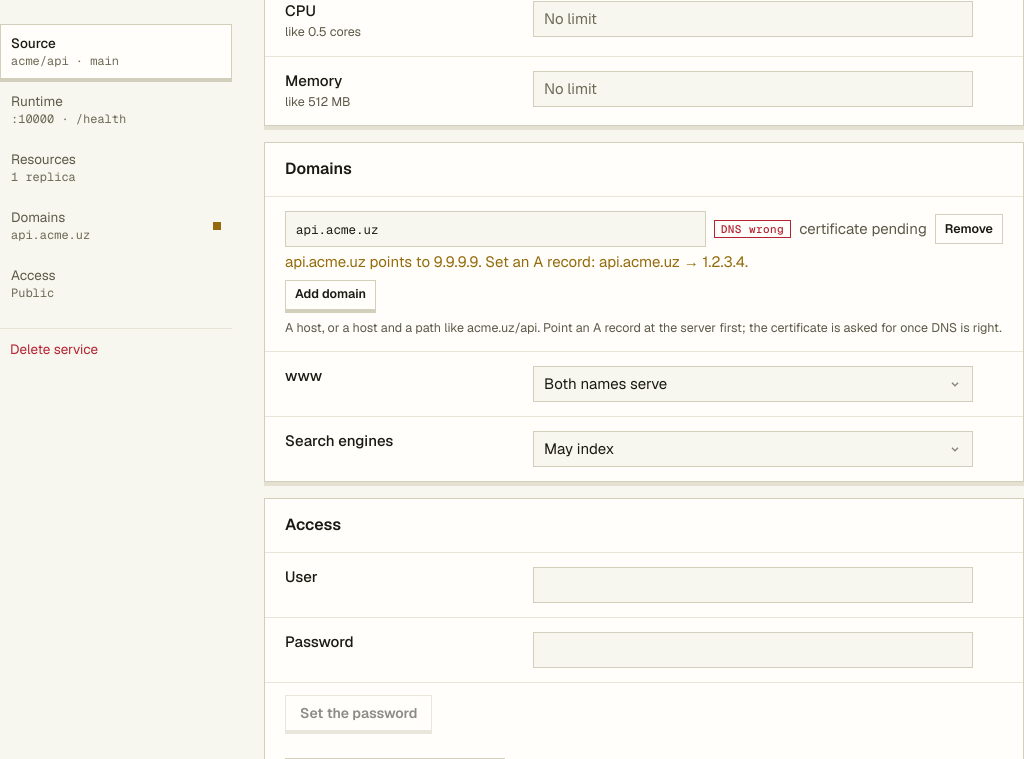
Test: ServiceSettings › changing a value and changing it back leaves nothing unsaved
(page scrolled)
Select "www.name sends to name" in the dropdown labelled "www". click: (753, 384)
box: [533,366,973,402]
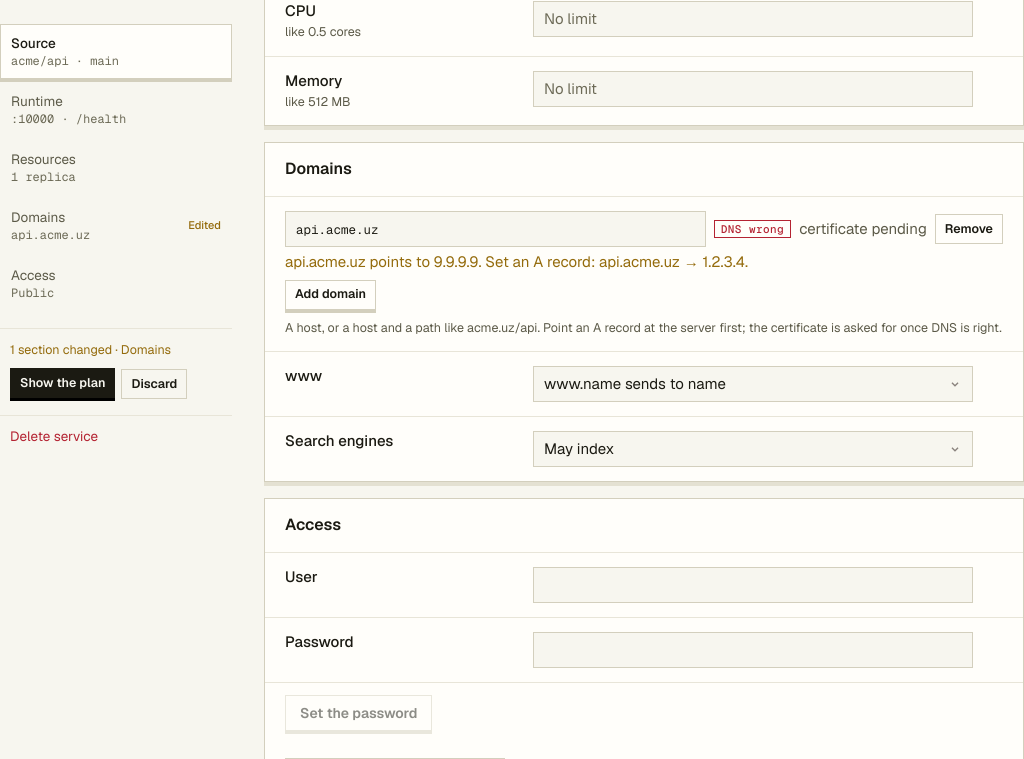
Expected: the text "1 section changed · Domains" is shown, [10,341,171,358]
Select "Both names serve" in the dropdown labelled "www". click: (753, 384)
box: [533,366,973,402]
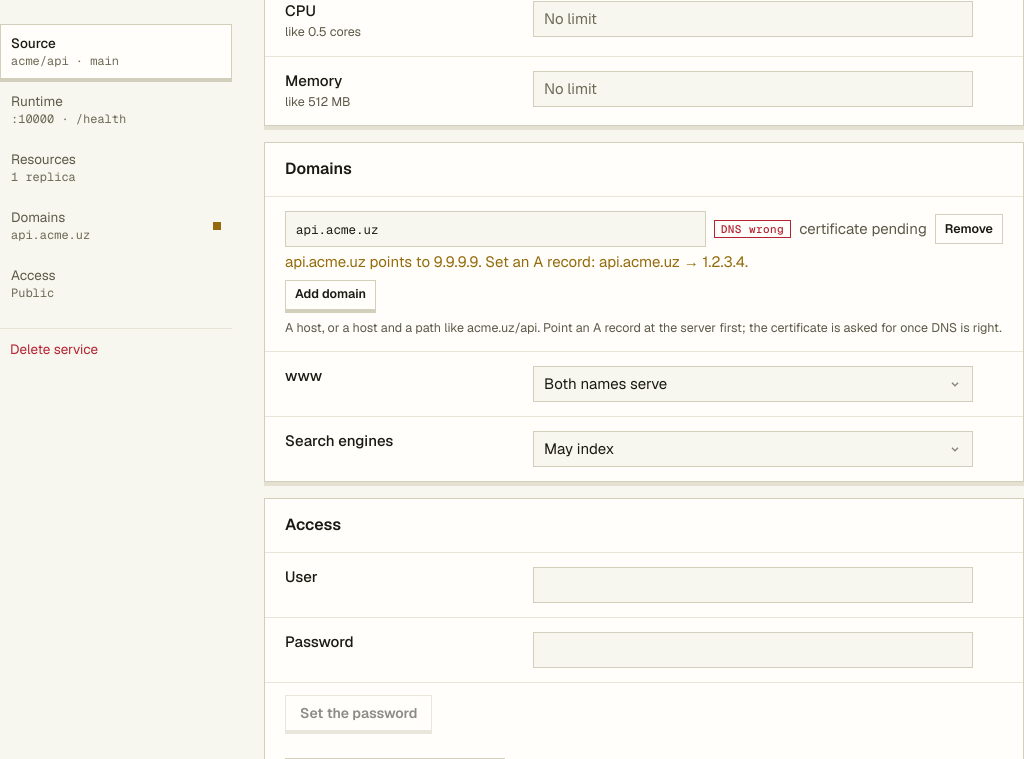
Select "noindex" in the dropdown labelled "Search engines". click: (753, 449)
box: [533,431,973,467]
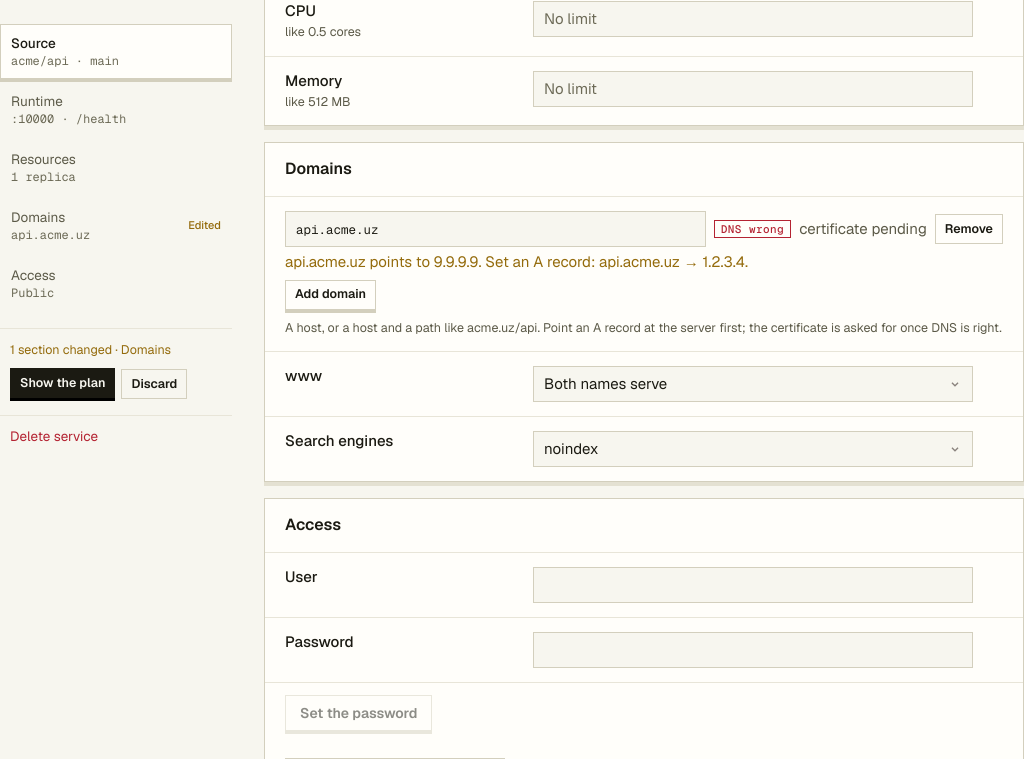
Select "May index" in the dropdown labelled "Search engines". click: (753, 449)
box: [533,431,973,467]
(page scrolled)
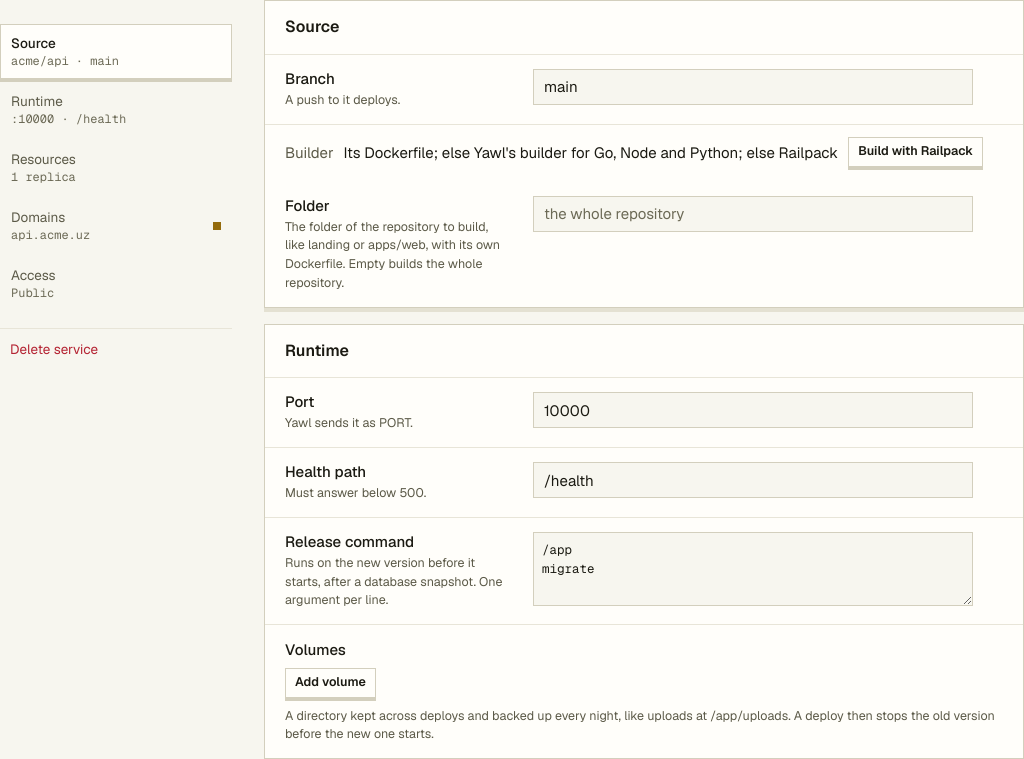
Click the button "Build with Railpack". click: (916, 152)
box: [848,136,983,166]
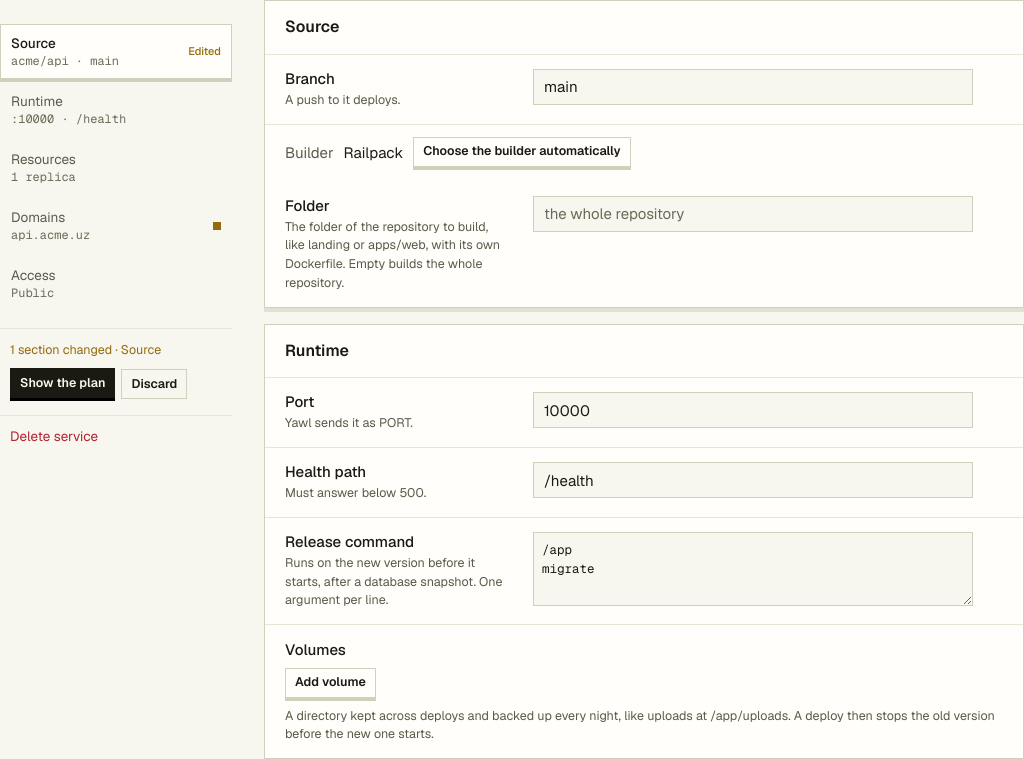
Click the button "Choose the builder automatically". click: (522, 152)
box: [413,136,631,166]
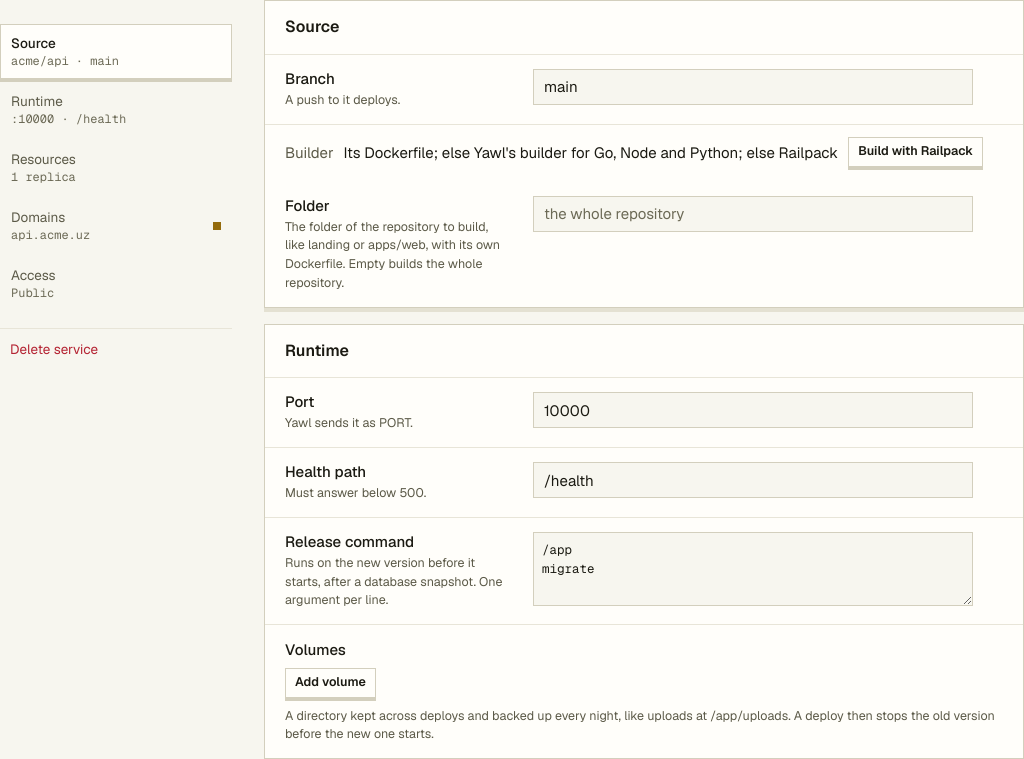
Expected: the button "Discard" is gone
